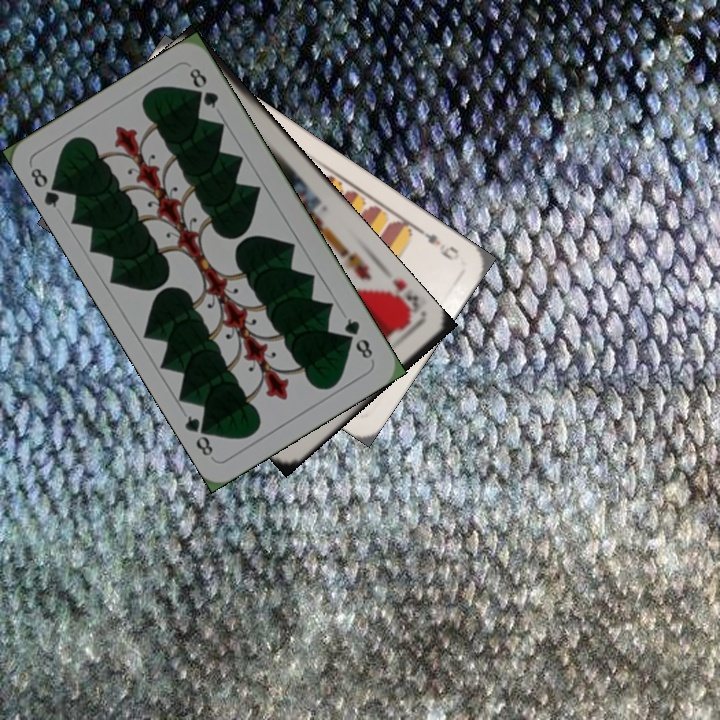E9: (412, 223, 462, 264)
G8: (26, 163, 67, 211), (340, 314, 376, 362)
HK: (378, 275, 429, 327)
